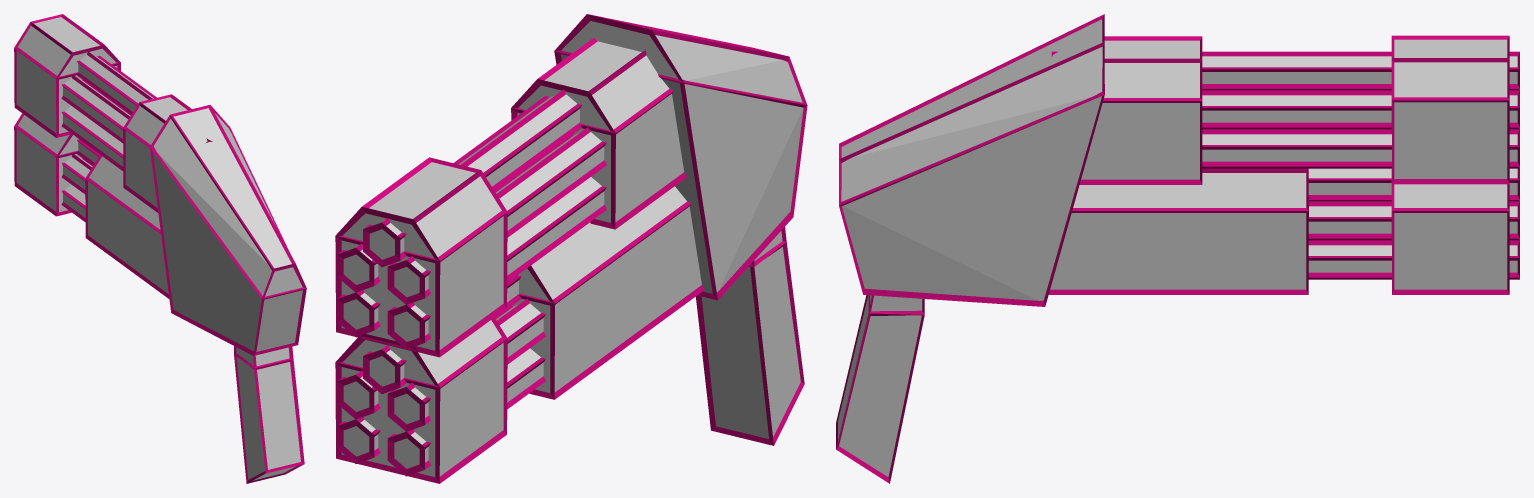
The picture shows the model from 3 angles, left to right: view 1: azimuth 30°, elevation 25°; view 2: azimuth 150°, elevation 25°; view 3: azimuth 270°, elevation 25°; orthographic projection. The views are drawn at different scales.
Visible parts, largest first — view 1: Cube_004, Cube_009, Cube, Cube_018, Cube_001, Cylinder, Cube_002; view 2: Cube_009, Cube, Cube_004, Cylinder, Cube_001, Cube_018, Cube_002; view 3: Cube_004, Cube_009, Cube, Cube_001, Cylinder, Cube_002, Cube_018.
Part boxes in pixels (x1,y1,x2,y2): Cube_004: (153, 108, 302, 351); Cube_009: (14, 14, 306, 483); Cube: (16, 17, 117, 212); Cube_018: (236, 347, 300, 480); Cube_001: (88, 156, 168, 293); Cylinder: (63, 55, 153, 217); Cube_002: (125, 97, 187, 207); Cube_009: (335, 14, 807, 483); Cube: (341, 162, 503, 476); Cube_004: (561, 21, 803, 293); Cylinder: (343, 94, 604, 468); Cube_001: (512, 186, 701, 392); Cube_018: (701, 231, 800, 438); Cube_002: (517, 41, 684, 222); Cube_004: (841, 19, 1102, 300); Cube_009: (836, 14, 1519, 483); Cube: (1394, 39, 1507, 289); Cube_001: (1050, 173, 1306, 289); Cylinder: (1202, 56, 1517, 272); Cube_002: (1081, 40, 1199, 179); Cube_018: (838, 295, 922, 476).
Size of the model in its own units: 0.0516 by 0.2683 by 0.1917.
